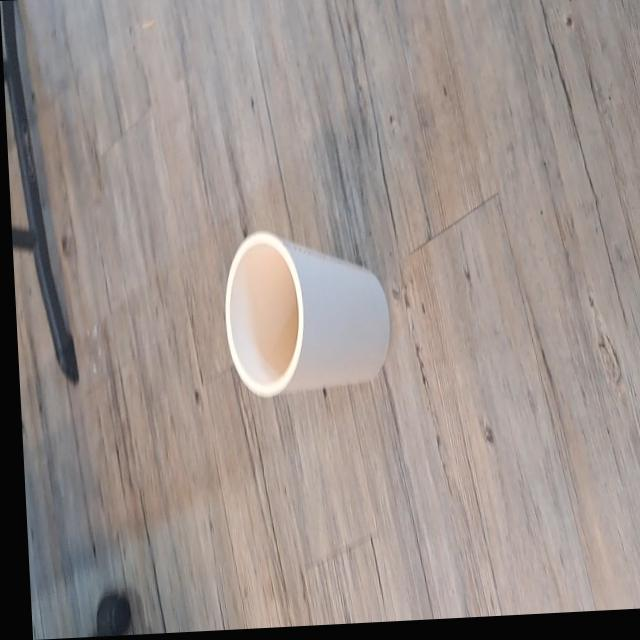CORAL: (206, 188, 401, 433)
